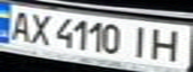0: (103, 20, 127, 56)
1: (84, 19, 106, 53), (69, 18, 87, 51)
4: (51, 15, 75, 48)
A: (3, 8, 36, 43)
H: (148, 25, 190, 63)
I: (127, 24, 157, 58)
X: (24, 11, 54, 46)
